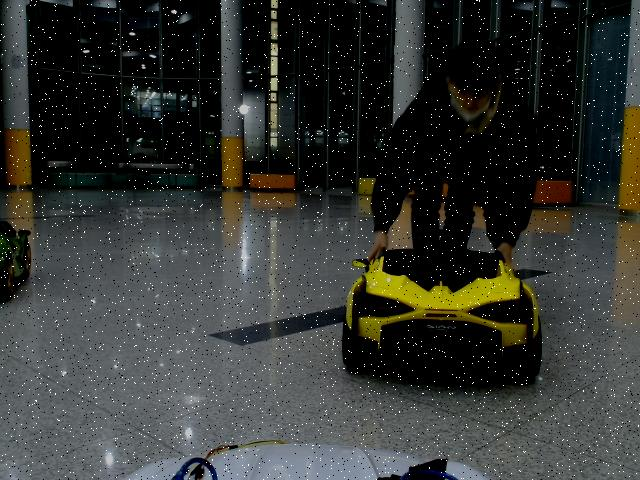car: (343, 230, 542, 381)
